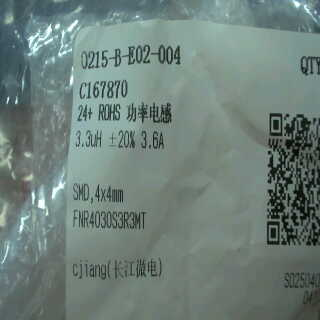3.3uH: (74, 125, 102, 154)
